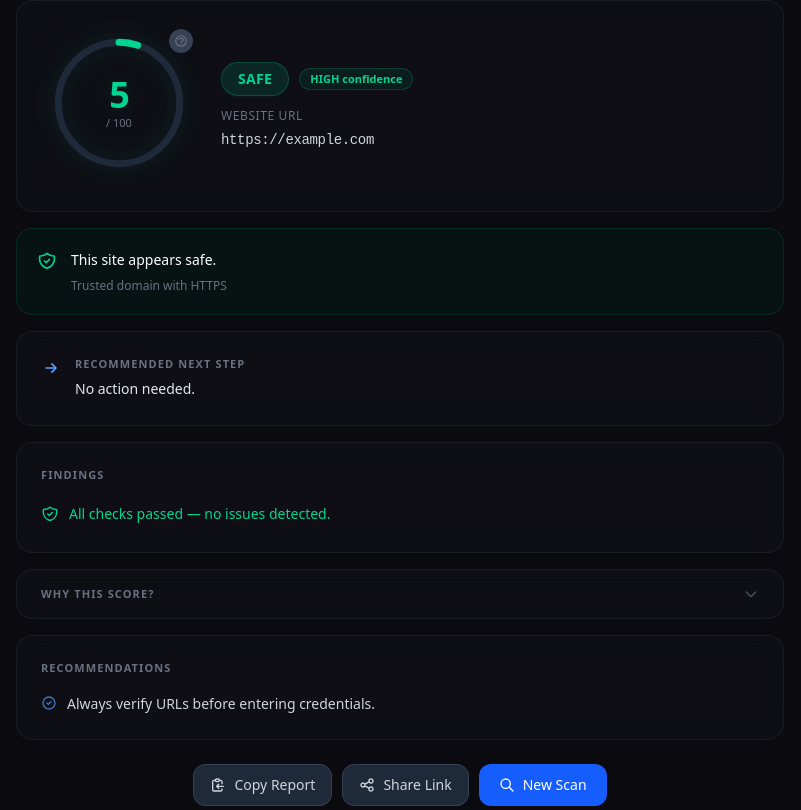
Test case: ReportCard › score explainer › toggles score explainer on ? button click
Note: Click the ? button
Click the button named "Why this score?". click: (181, 41)
box: [169,29,193,53]
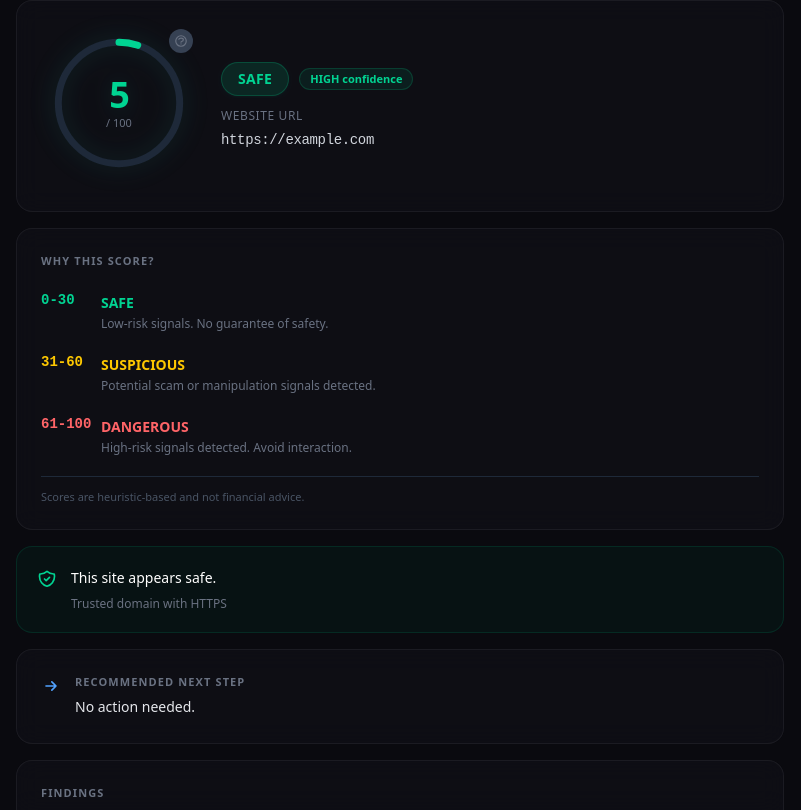
Result: the text "0-30" is shown at [41,292,75,308]
Result: the text "31-60" is shown at [41,352,89,372]
Result: the text "61-100" is shown at [41,414,89,434]
